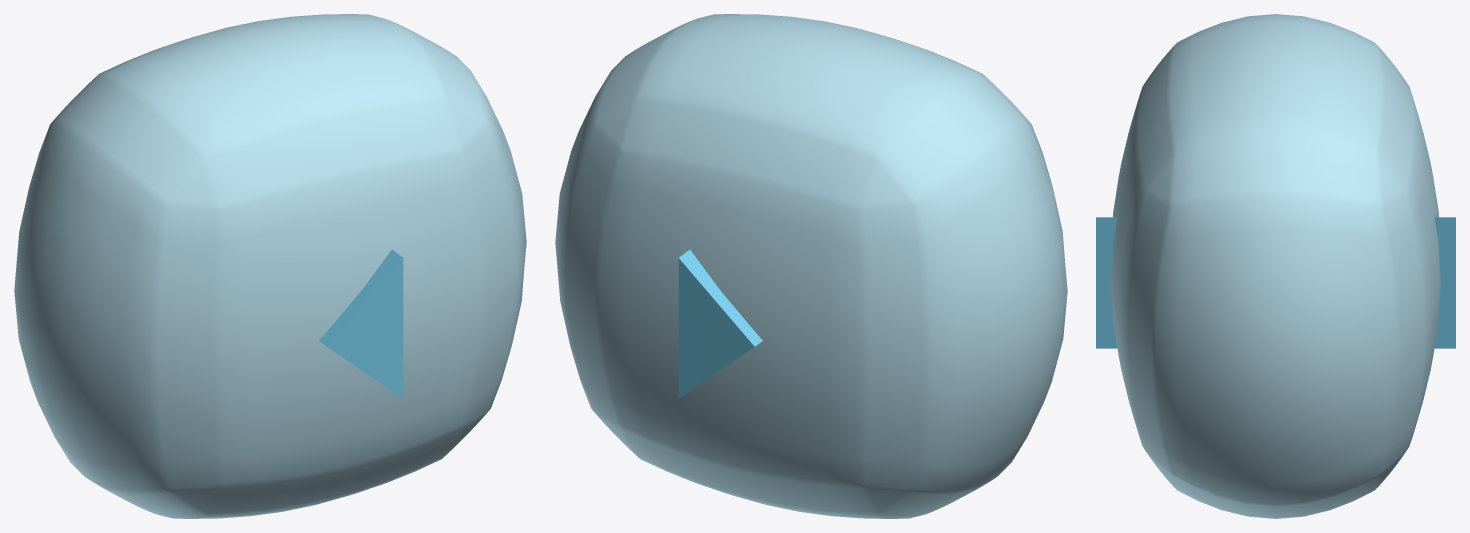
Rendered from play_button_animation_frame13.fbx.
3 views of the same model, side by side, from view 1: azimuth 30°, elevation 25°; view 2: azimuth 150°, elevation 25°; view 3: azimuth 270°, elevation 25° (orthographic). The views are drawn at different scales.
Visible parts, largest first — view 1: Button, Triangle; view 2: Button, Triangle; view 3: Button, Triangle.
Part boxes in pixels (bbox=[...]): Button: bbox=[14, 14, 526, 518]; Triangle: bbox=[319, 249, 403, 398]; Button: bbox=[555, 14, 1067, 518]; Triangle: bbox=[678, 249, 762, 398]; Button: bbox=[1111, 14, 1440, 518]; Triangle: bbox=[1096, 217, 1455, 348].
Size of the model in its own units: 345 by 318 by 245.
